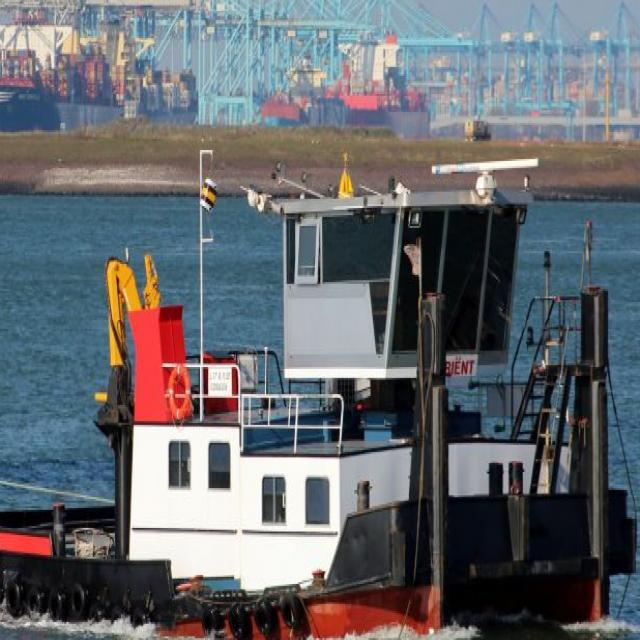tugboat: (1, 154, 640, 640)
